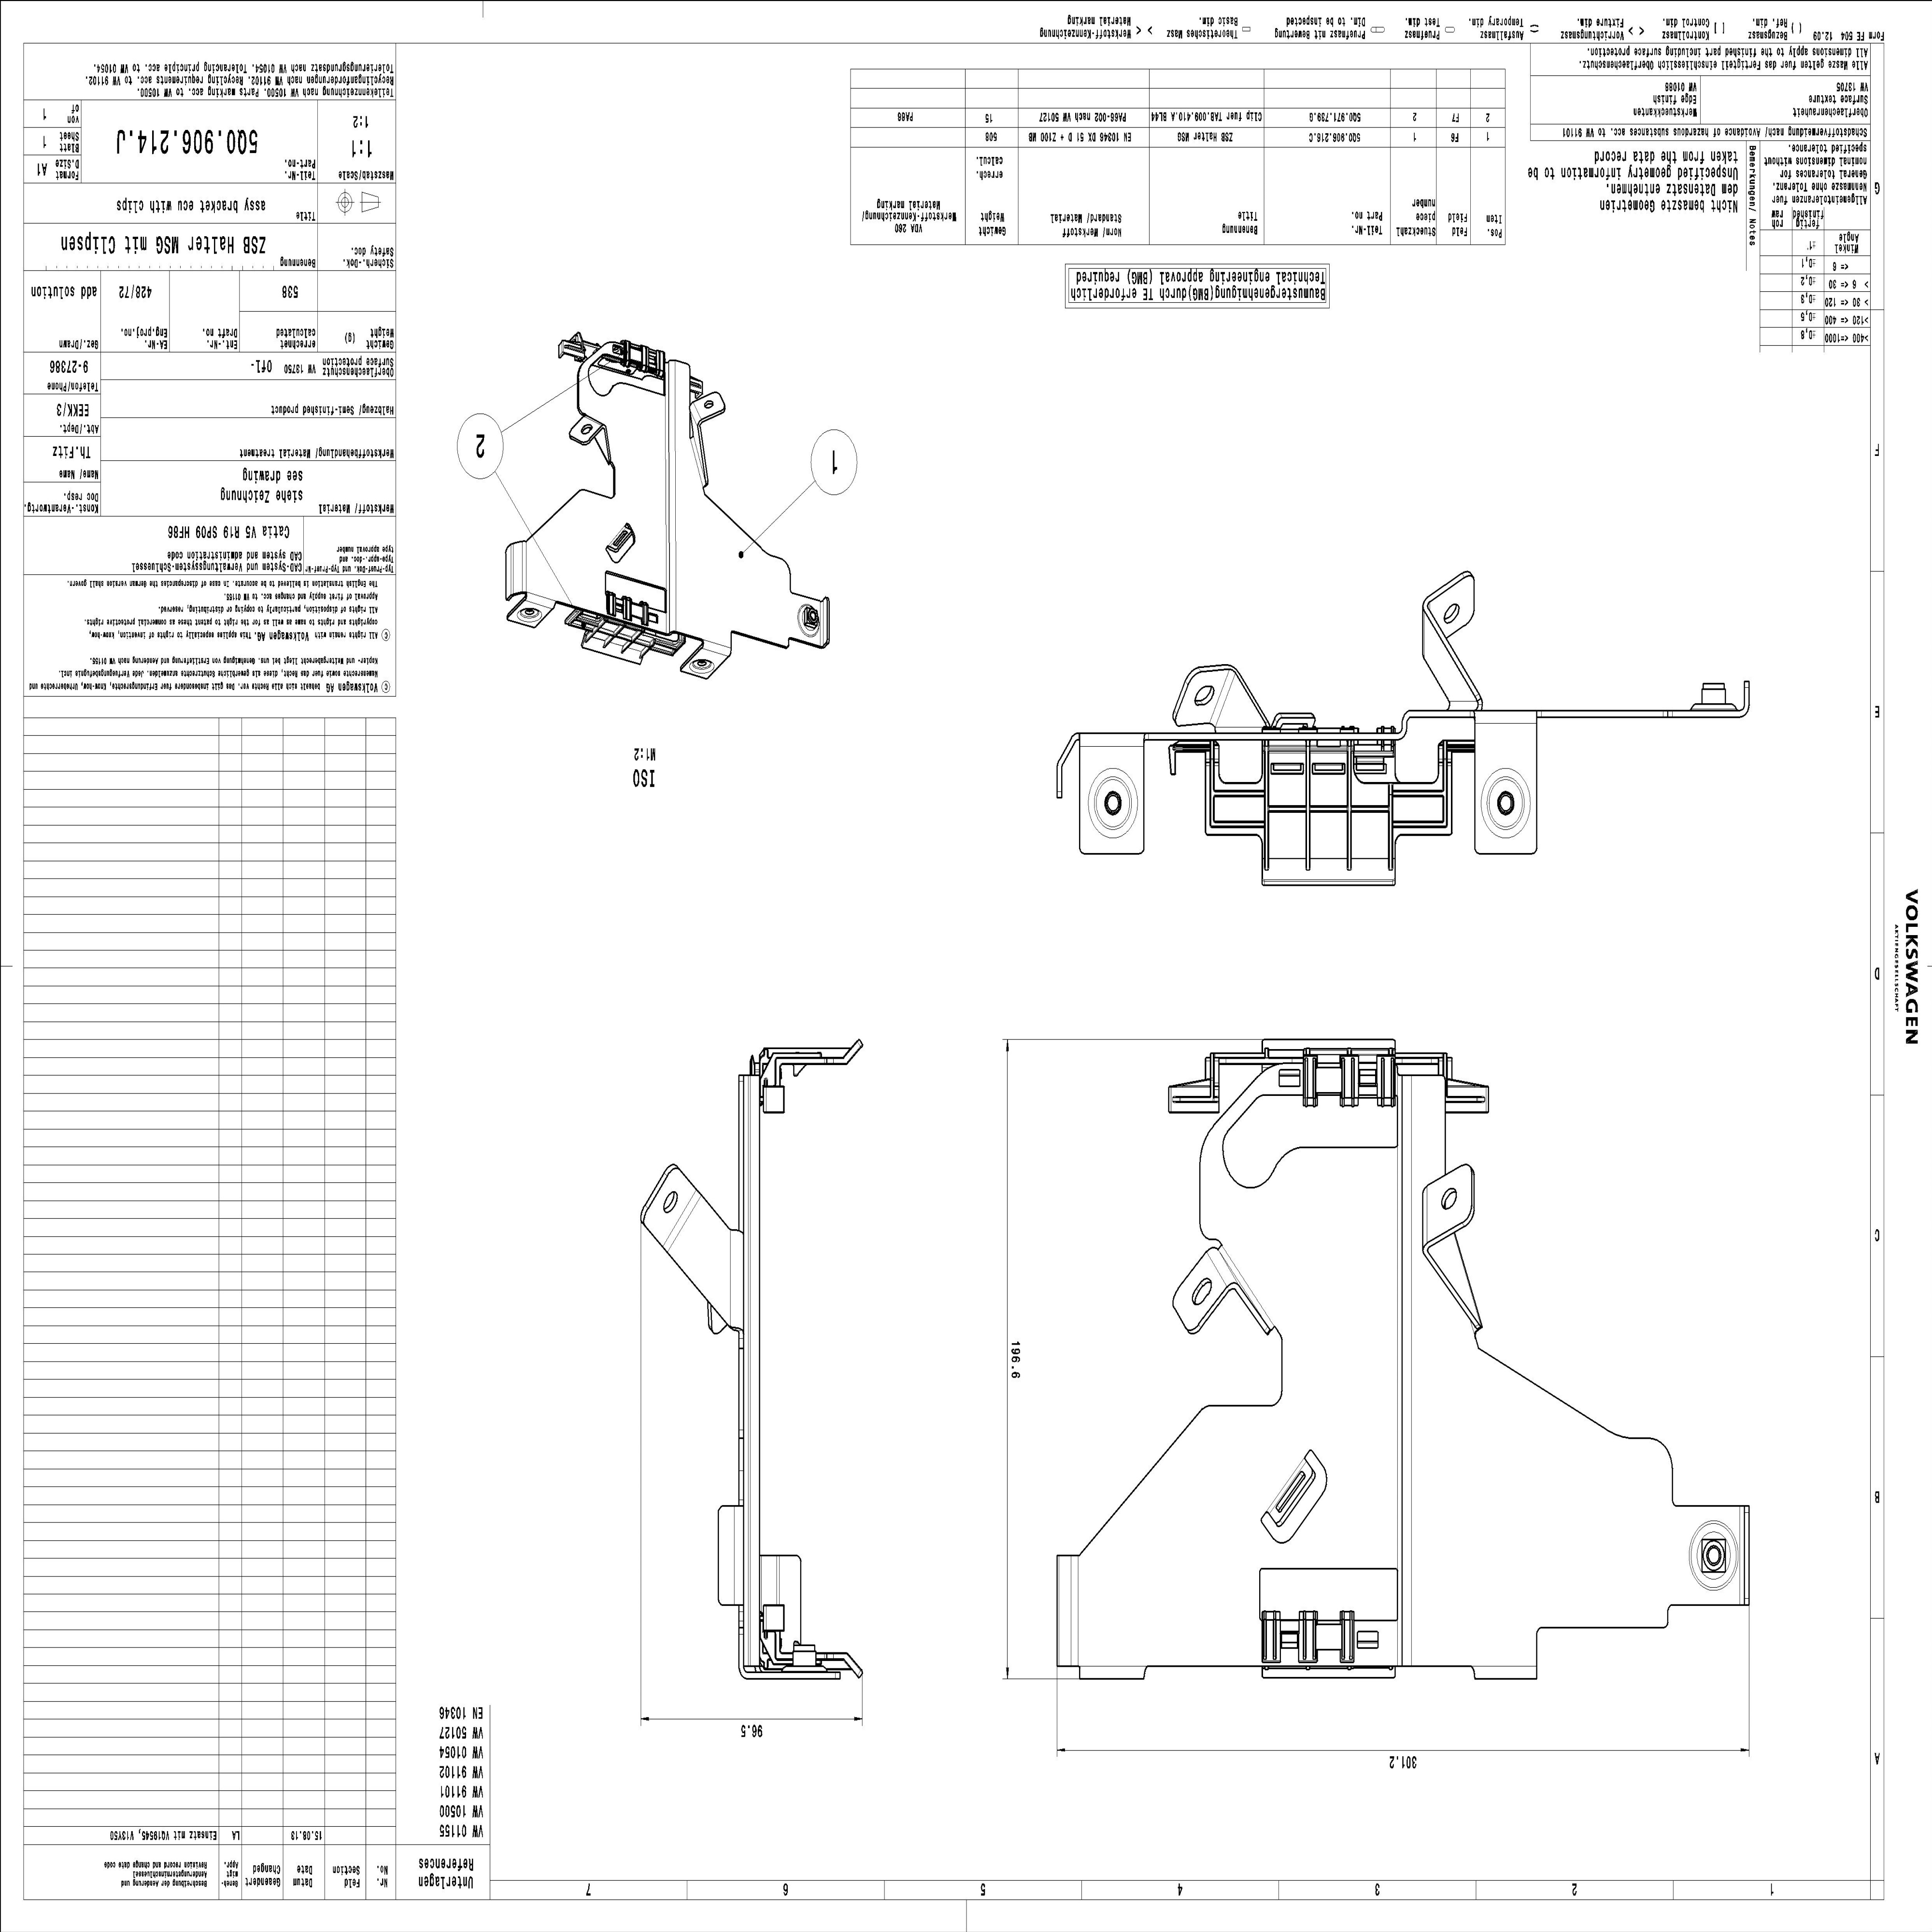BendingEdge: (658, 1189, 709, 1254)
InnerContour: (1187, 1272, 1219, 1311), (656, 1185, 685, 1219), (515, 603, 545, 628), (688, 655, 717, 679), (1192, 683, 1217, 708), (1438, 1187, 1460, 1210), (1444, 602, 1461, 625), (580, 423, 594, 435), (704, 400, 715, 409)
ThroughHole: (1086, 768, 1141, 842), (1477, 766, 1532, 840)
